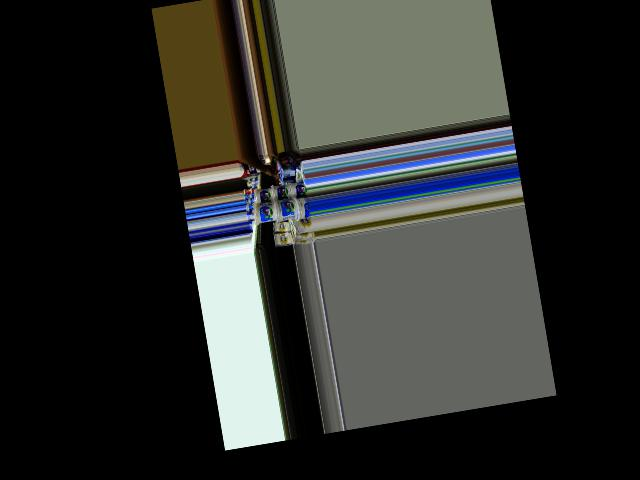cotage: (270, 183, 293, 203)
